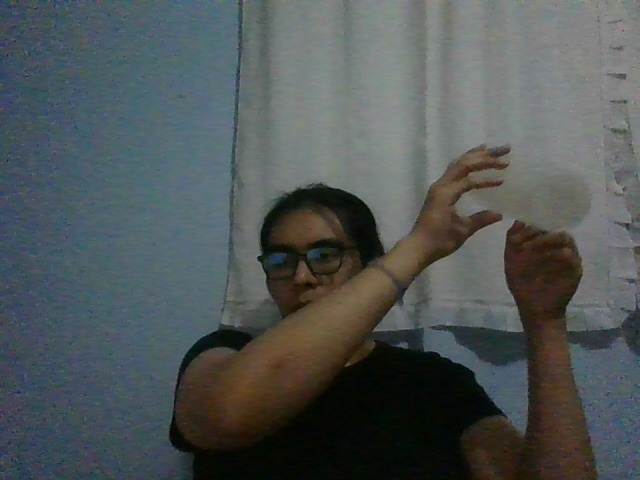vaso: (467, 150, 592, 231)
